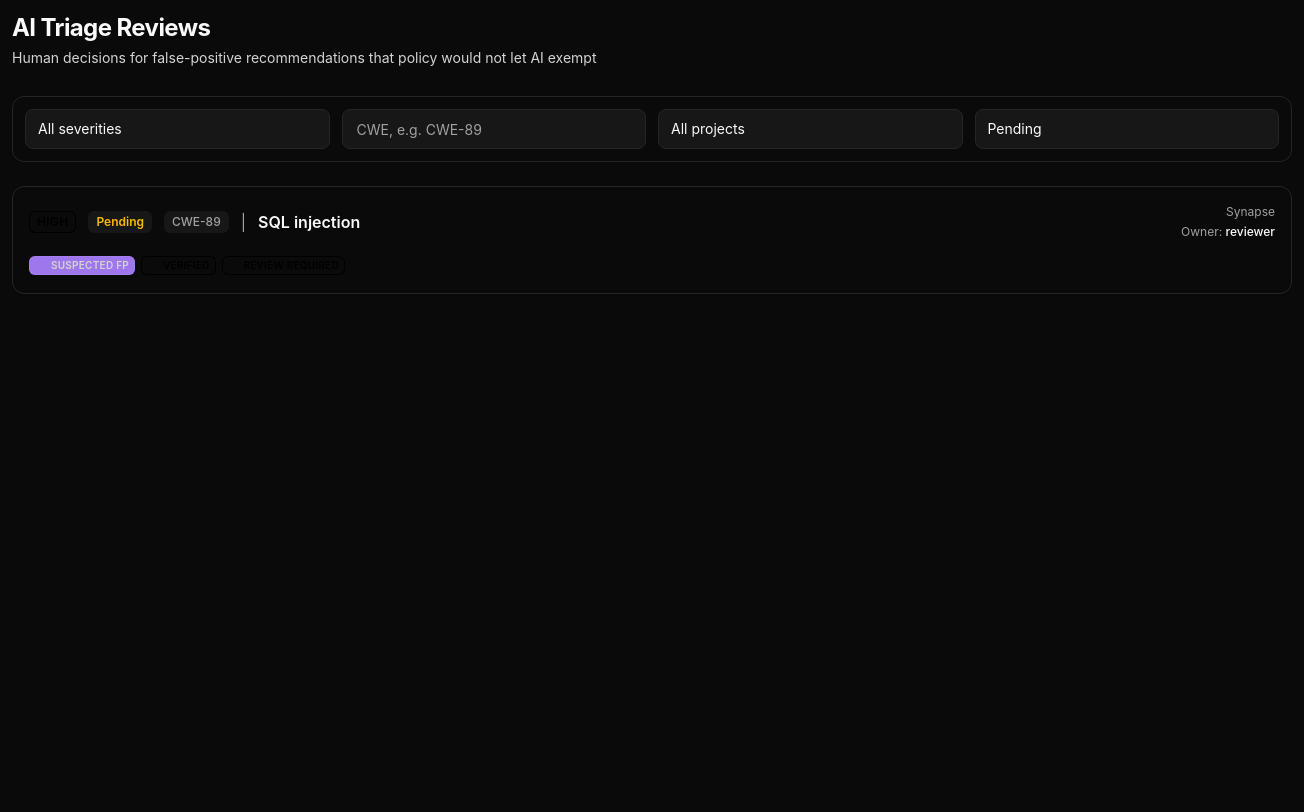
Test case: AITriageReviews › shows model, policy, evidence, and all applicable triage badges
This screenshot has width=1304, height=812.
Expected: the heading "SQL injection" is shown, [258, 210, 360, 234]
Click the button "SQL injection": point(53, 222) [13, 187, 1291, 293]
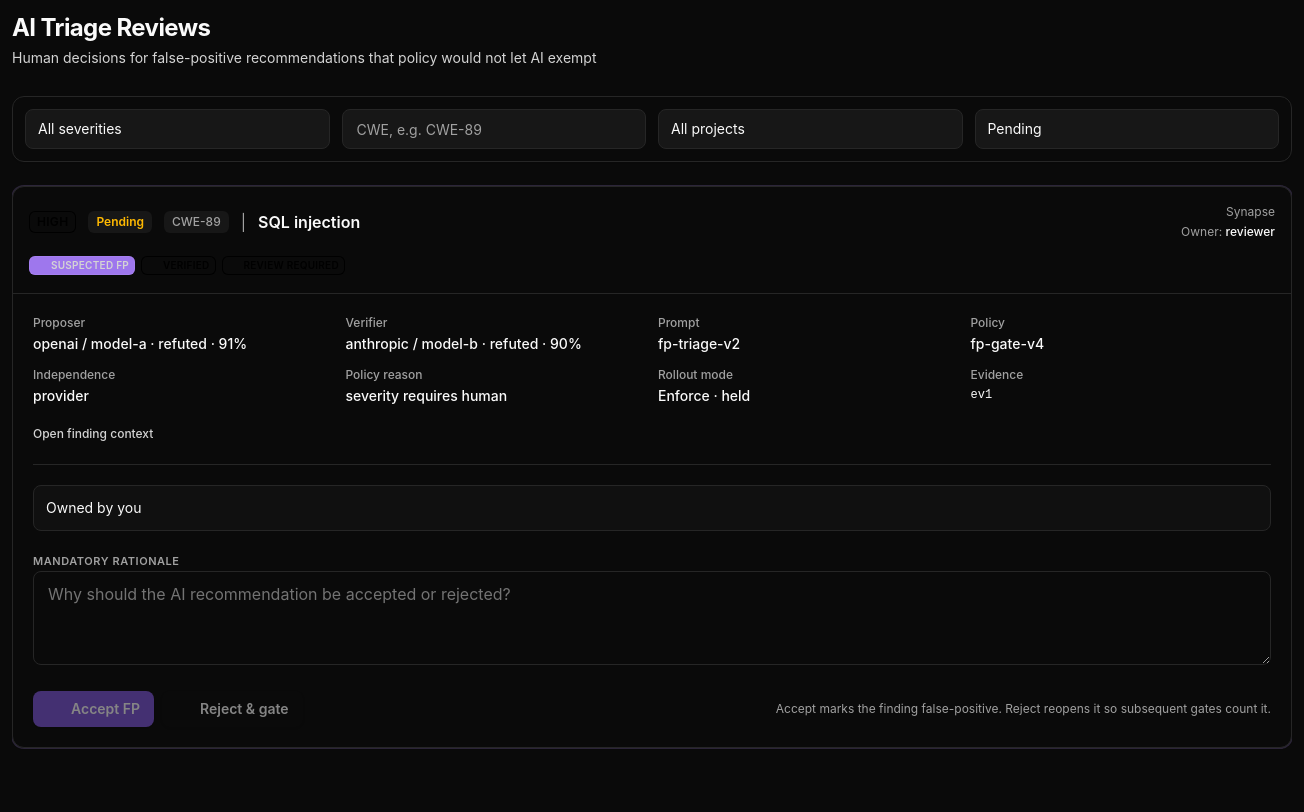
Result: the text "openai / model-a · refuted · 91%" is shown at [33, 335, 247, 352]
Result: the text "fp-gate-v4" is shown at [970, 335, 1044, 352]
Result: the text "provider" is shown at [33, 387, 89, 404]
